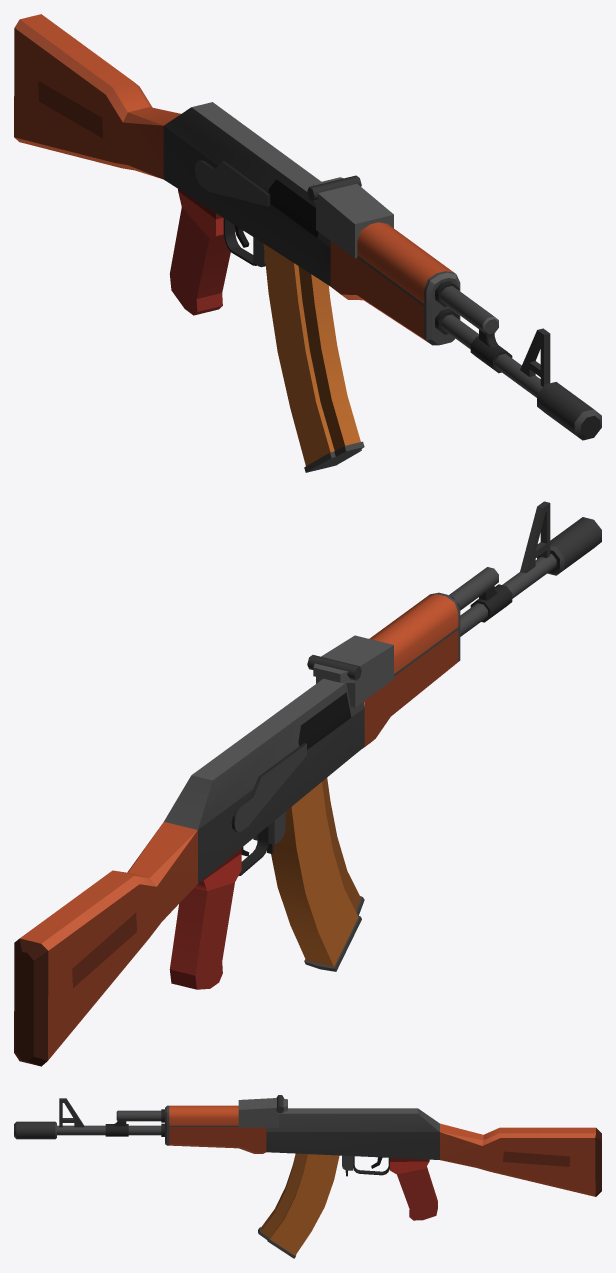
3 views of the same model, one above another, from view 1: azimuth 30°, elevation 25°; view 2: azimuth 150°, elevation 25°; view 3: azimuth 270°, elevation 25° (orthographic). The views are drawn at different scales.
Parts seen in each view (by area): view 1: AK74; view 2: AK74; view 3: AK74.
Part boxes in pixels (left/top/right/bottom): AK74: left=14, top=14, right=601, bottom=472; AK74: left=14, top=501, right=601, bottom=1066; AK74: left=14, top=1095, right=601, bottom=1258.
Bounding box in the file's own units: 11.02 × 67.18 × 229.
